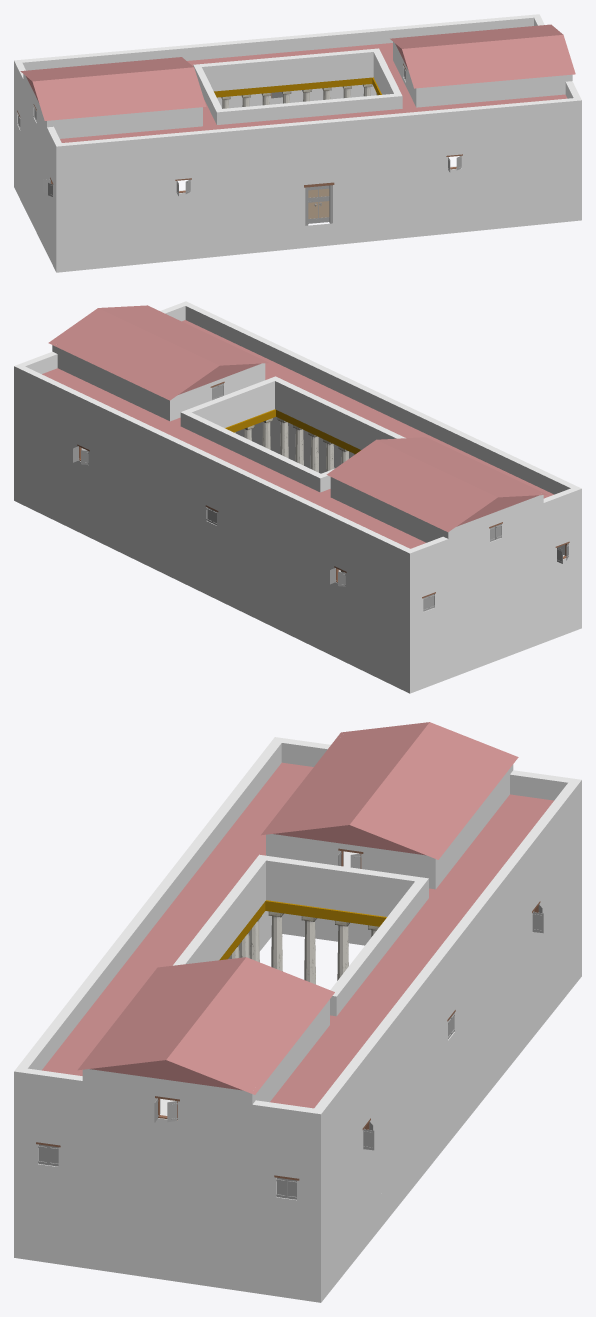
The model's file is LOD_Block_0_85.glb.
3 views of the same model, one above another, from view 1: azimuth 30°, elevation 25°; view 2: azimuth 150°, elevation 25°; view 3: azimuth 270°, elevation 25° (orthographic). The views are drawn at different scales.
Parts seen in each view (by area): view 1: _1.1270; view 2: _1.1270; view 3: _1.1270.
Boxes of the visible parts, box(x1,y1,x2,y2) form: _1.1270: box(14, 14, 581, 272); _1.1270: box(14, 301, 581, 693); _1.1270: box(14, 722, 581, 1302).
Bounding box in the file's own units: 40.88 × 11.68 × 26.01.
21 materials, 2 textured.
